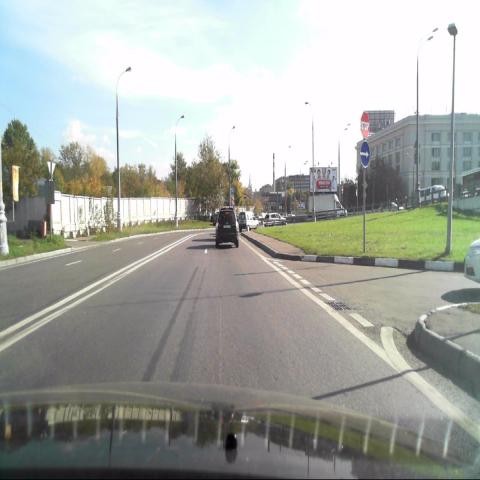4_1_2_1: (359, 140, 371, 170)
